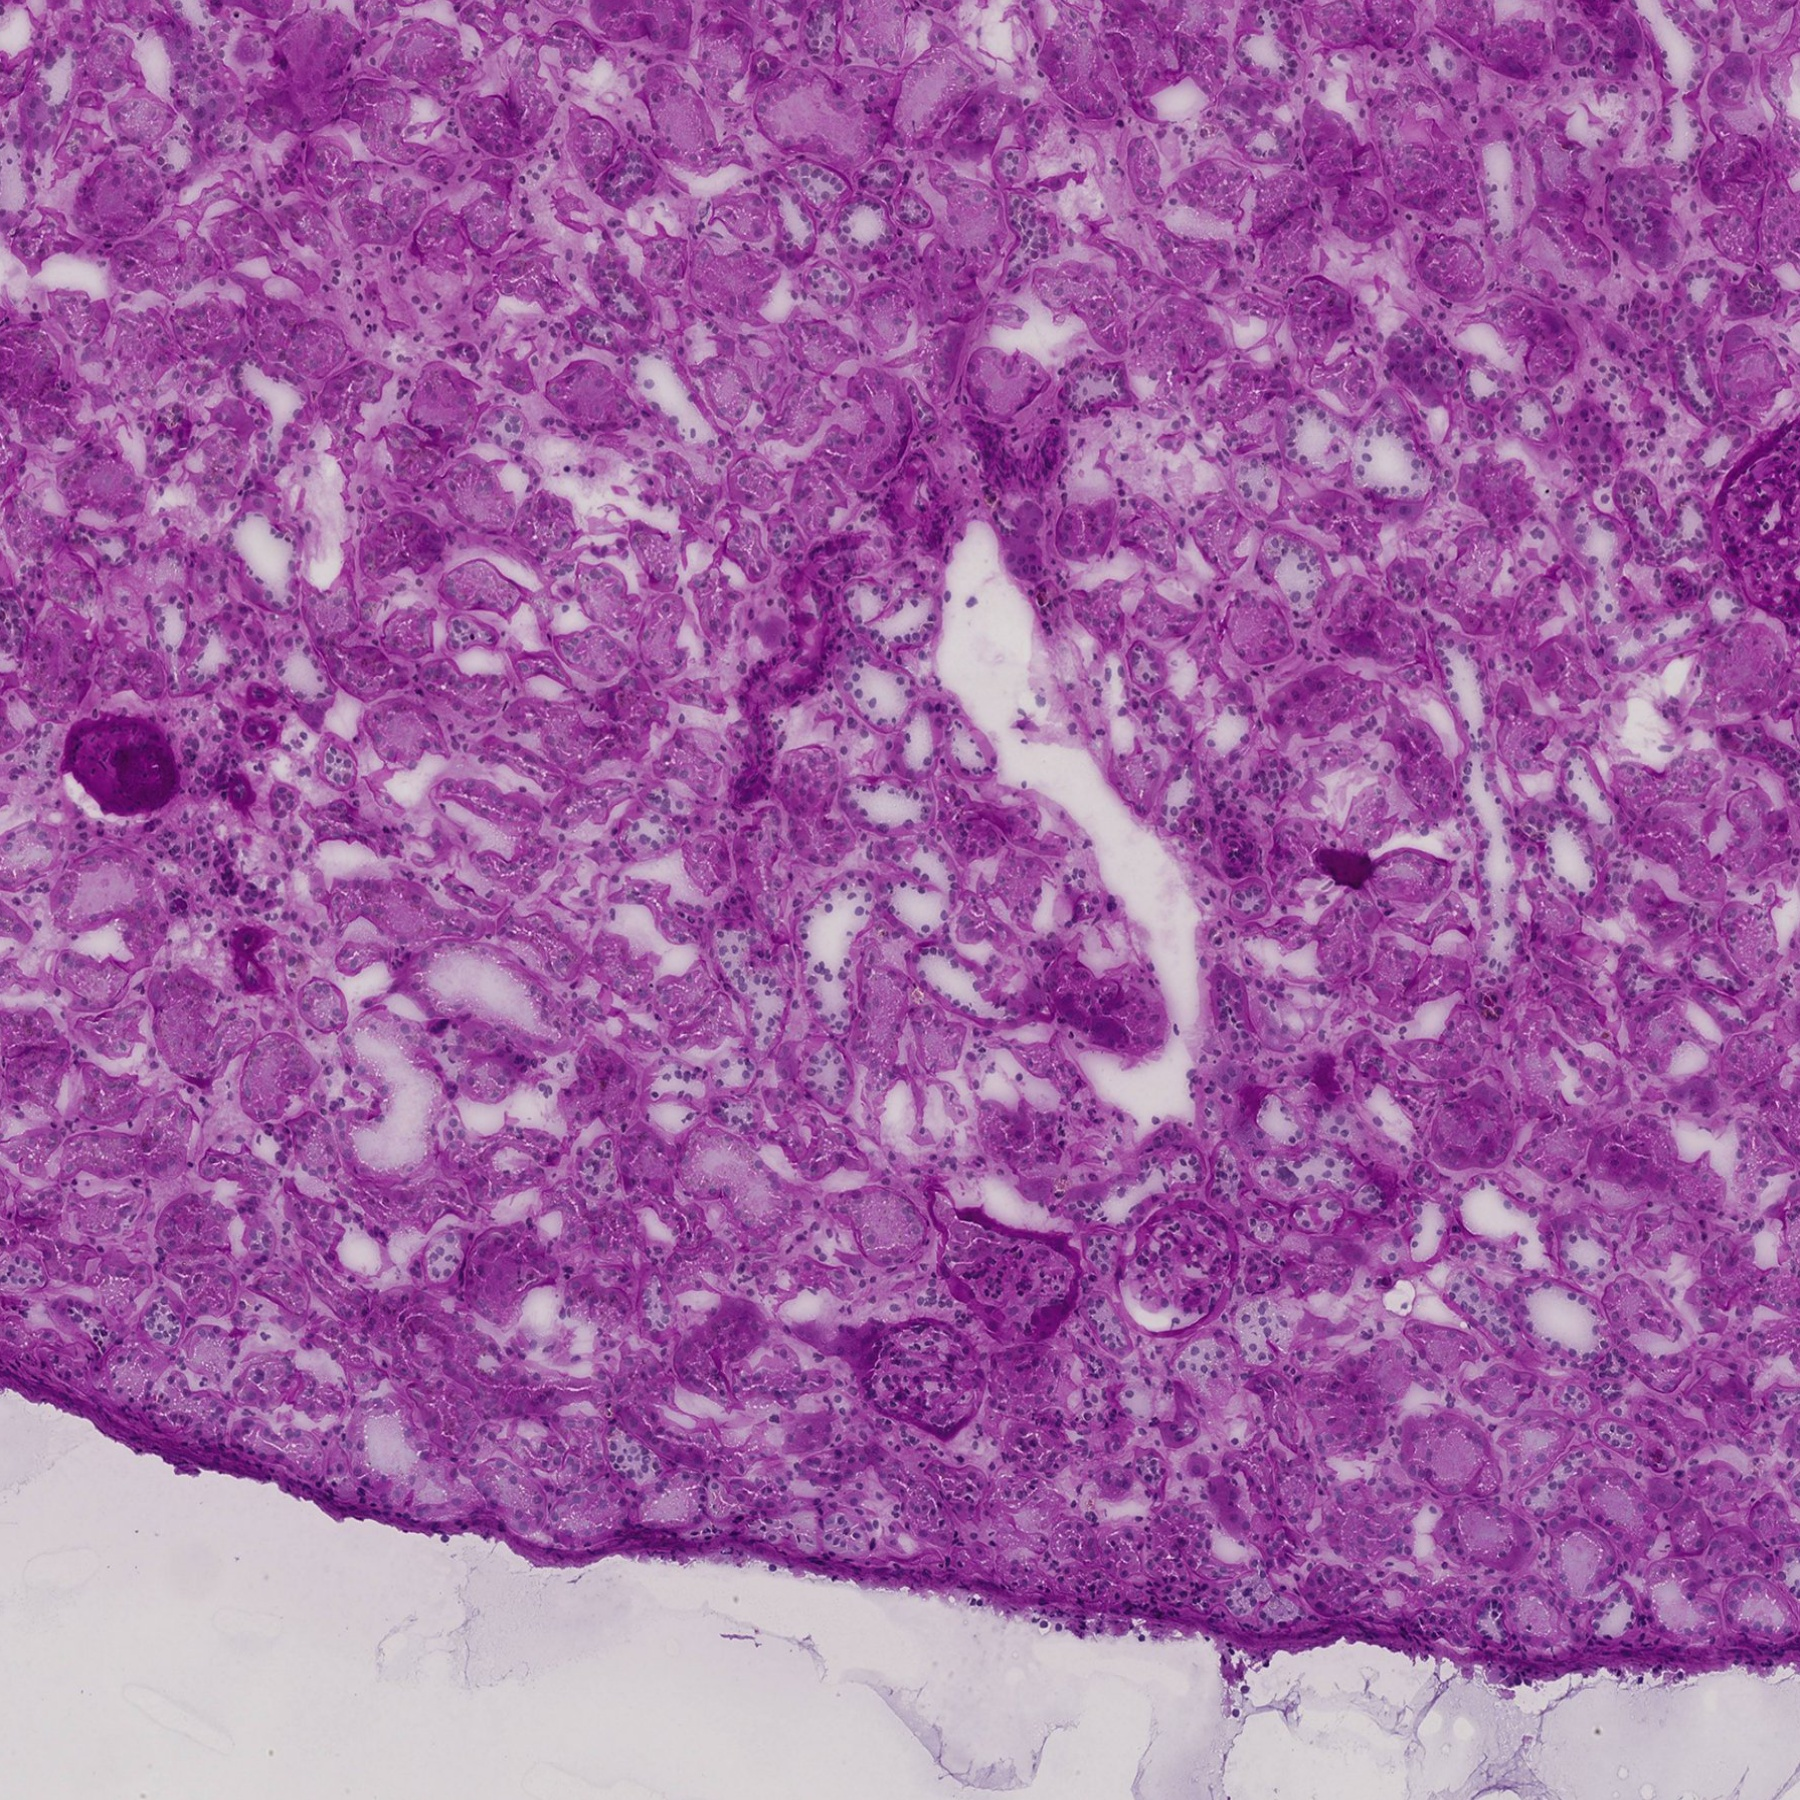Glomeruli: (935, 1212, 1083, 1342), (1713, 414, 1800, 635), (1114, 1193, 1248, 1332), (862, 1317, 986, 1441)
